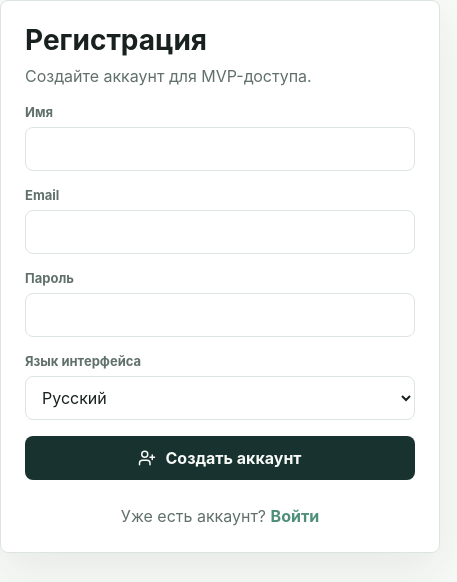
RegisterForm › waits for email verification instead of opening the protected dashboard
In the field labelled "Email": (220, 232) [25,210,415,254], type "user@example.com"
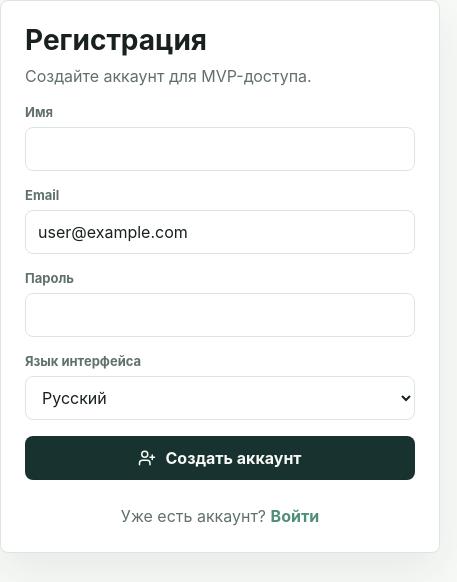
In the password field labelled "Пароль": (220, 315) [25,293,415,337], type "correct-password"
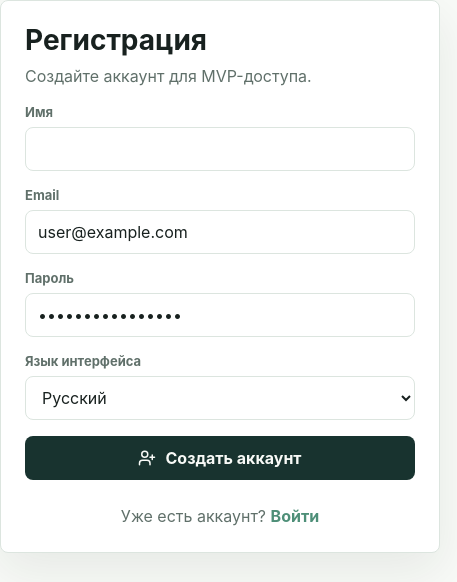
Submit the form named "Создать аккаунт"
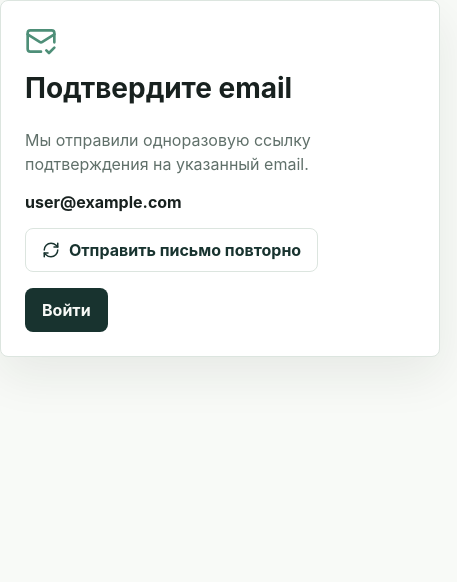
Expected: the heading "Подтвердите email" is shown, [25,73,292,104]
Expected: the text "user@example.com" is shown, [25,192,182,212]
